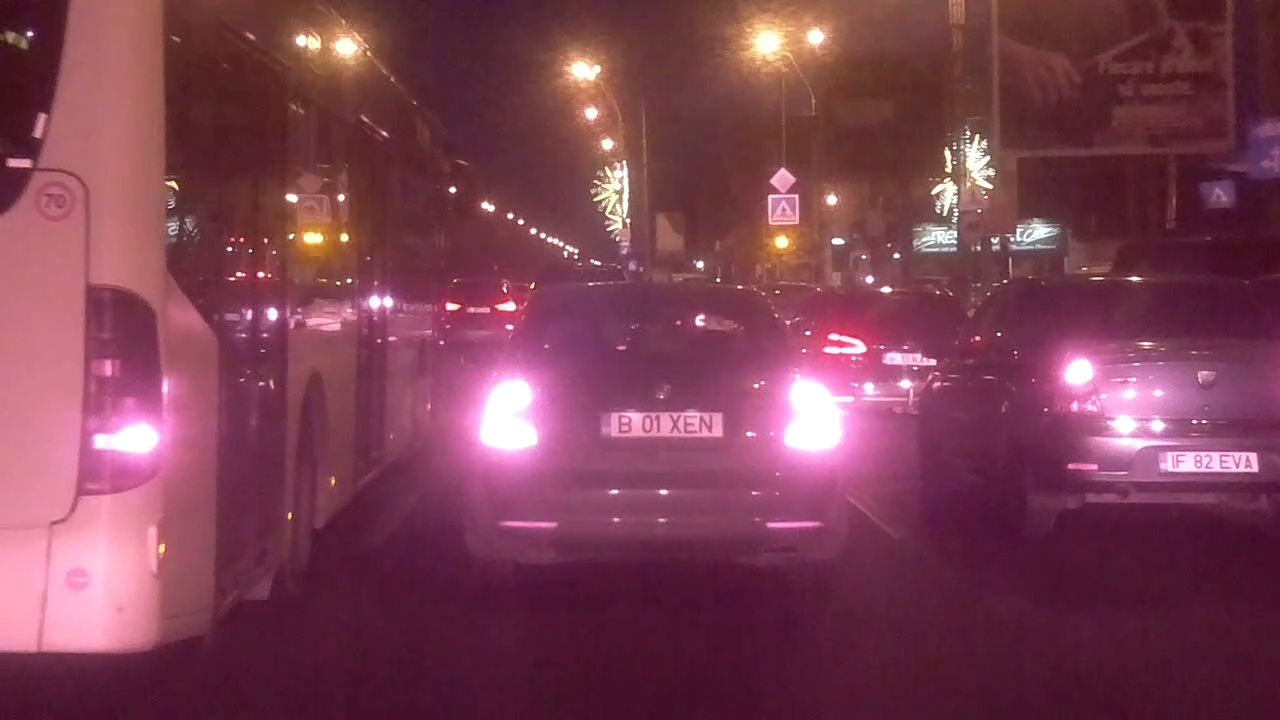license-plate: (592, 406, 728, 441), (1153, 446, 1264, 478)
